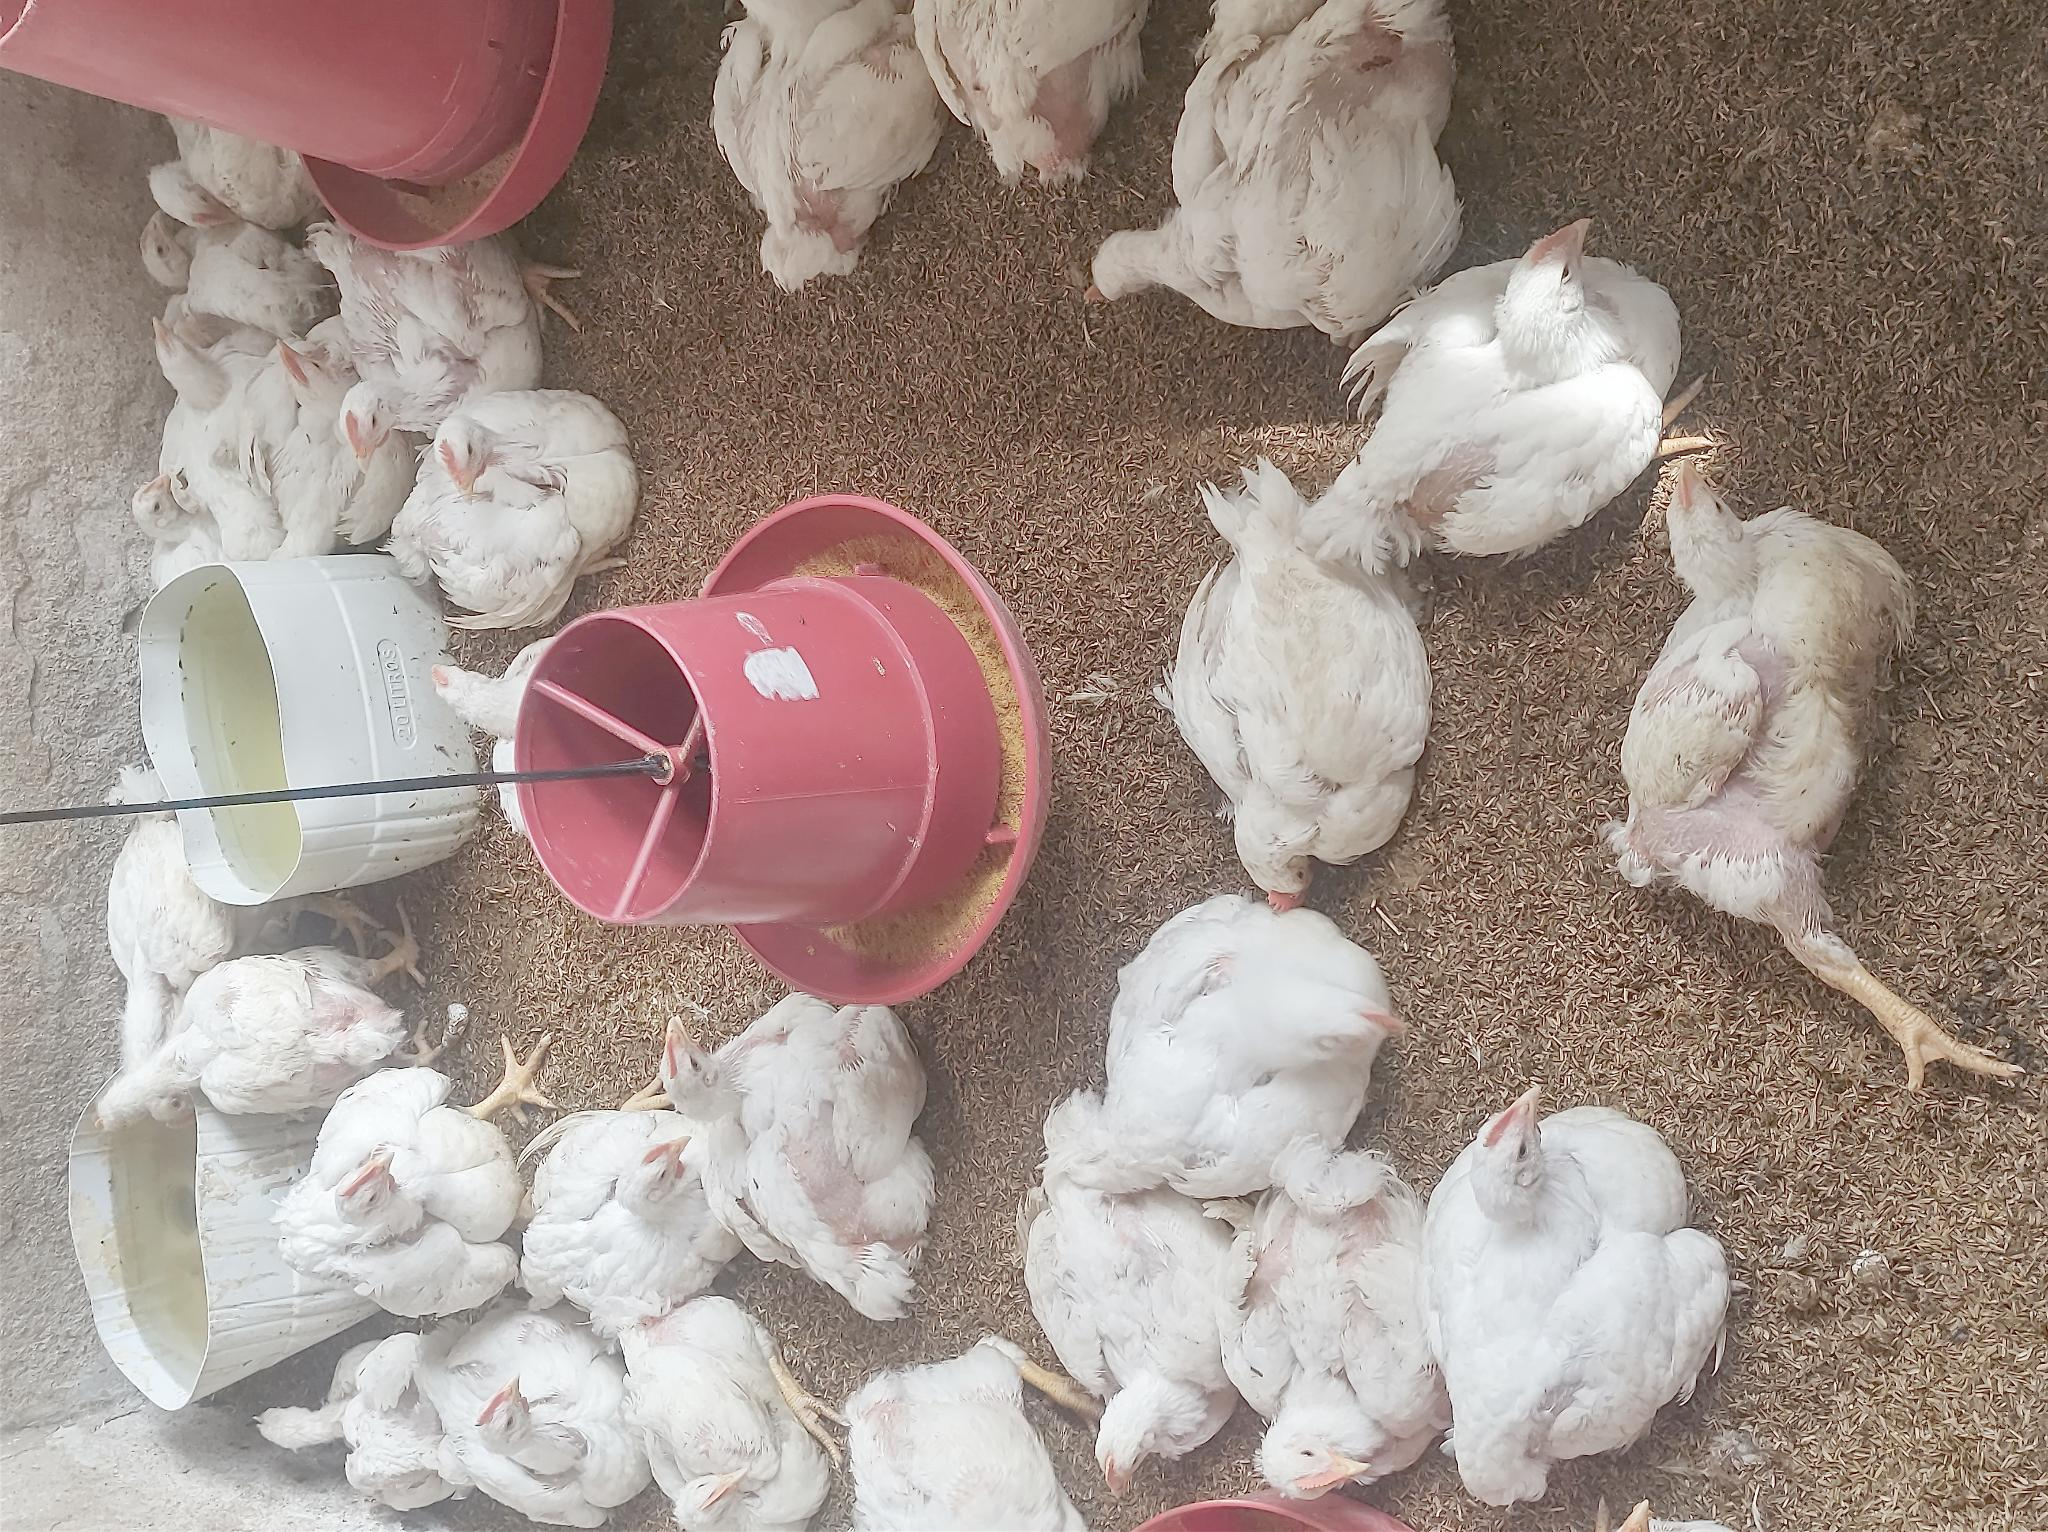Pollos: (1643, 439, 1924, 1019), (1347, 198, 1726, 571), (1445, 1065, 1791, 1472), (1105, 0, 1430, 352), (1182, 491, 1437, 924), (639, 983, 967, 1307), (1229, 1149, 1488, 1532), (1105, 880, 1404, 1183), (275, 1057, 587, 1334), (77, 961, 463, 1168), (386, 383, 685, 649), (698, 6, 940, 315), (1001, 1176, 1242, 1477), (627, 1279, 869, 1529), (393, 1320, 664, 1532), (233, 1324, 454, 1532), (523, 1069, 755, 1263), (943, 0, 1189, 175), (312, 222, 516, 420), (251, 306, 396, 451), (150, 148, 278, 253), (103, 470, 228, 574), (137, 303, 238, 417), (339, 389, 454, 470), (145, 208, 201, 296)
